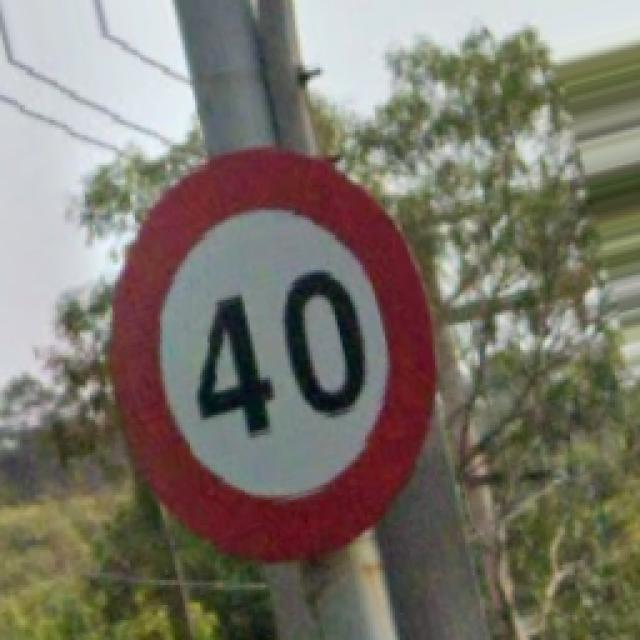Speed Limit -40-: (115, 148, 432, 560)
